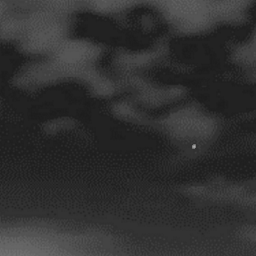Target: (190, 144, 197, 150)
